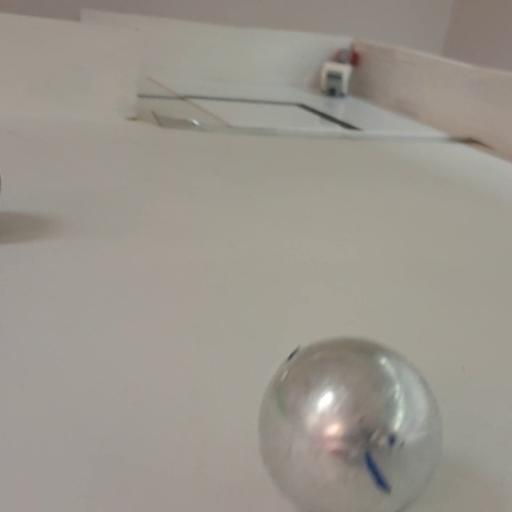dead: (260, 325, 437, 507)
